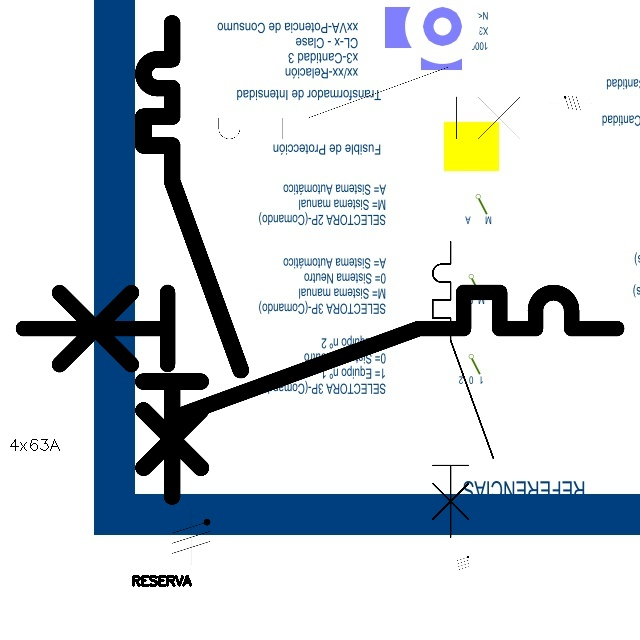interruptor_termomagnetico: (8, 277, 632, 430), (131, 11, 252, 508), (183, 58, 550, 148), (425, 234, 501, 545)
